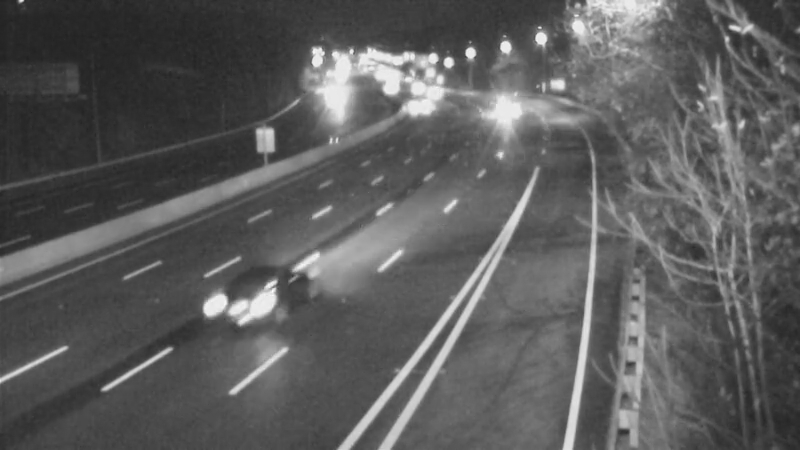vehicle: (183, 252, 293, 362), (394, 63, 444, 113), (363, 65, 413, 115), (414, 68, 464, 118), (487, 85, 537, 135), (391, 78, 441, 128)
